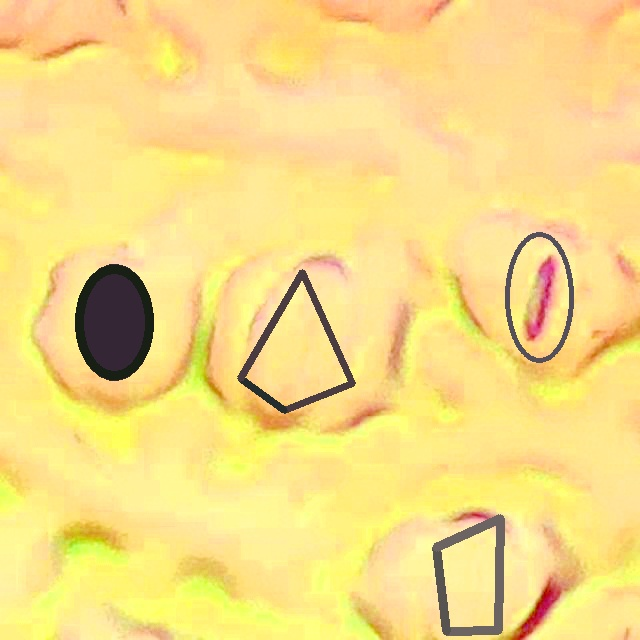close: (237, 269, 354, 412), (432, 514, 502, 635)
open: (504, 231, 574, 363), (76, 265, 153, 379)
